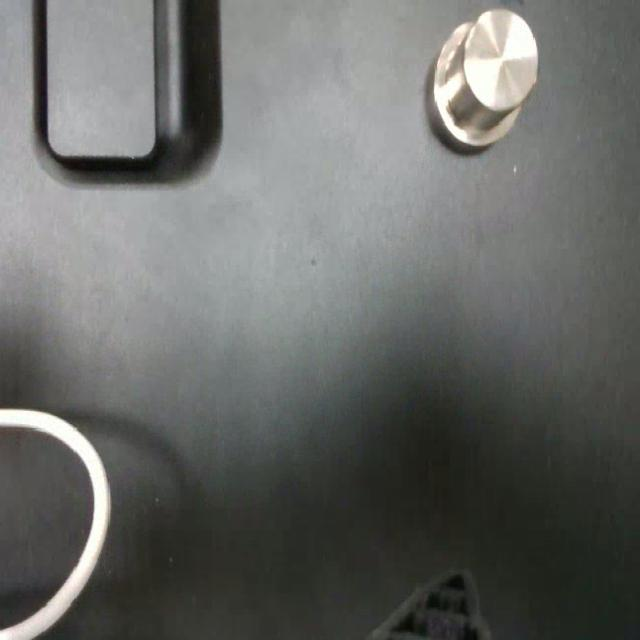sensor: (429, 9, 539, 152)
